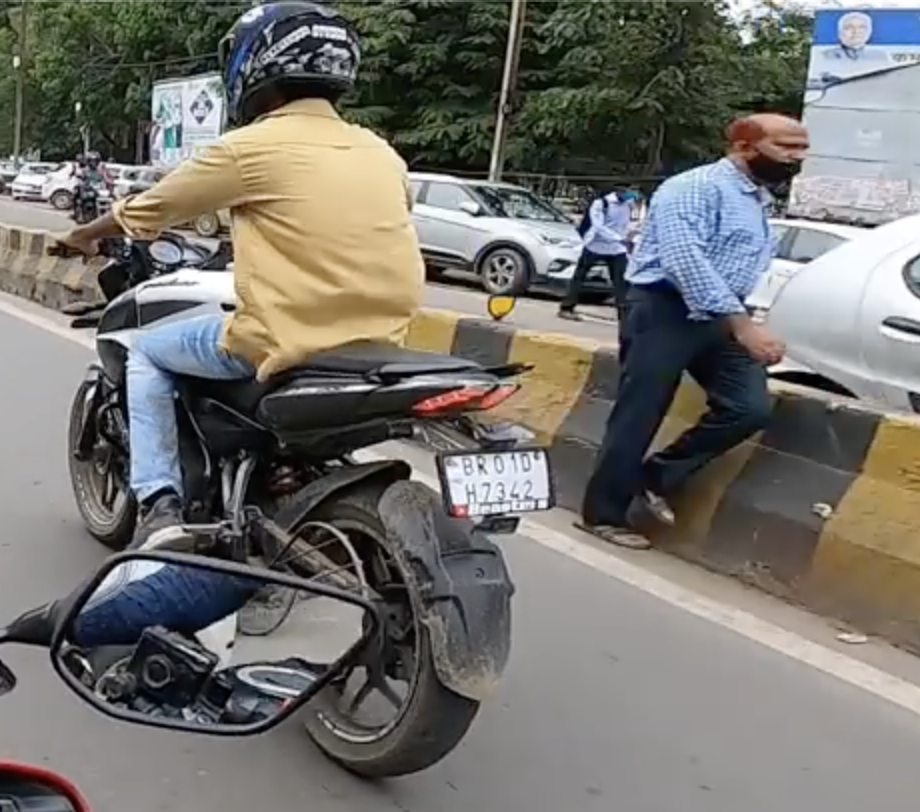motor: (53, 211, 552, 784)
number: (435, 445, 555, 515)
with helmet: (210, 6, 361, 113)
